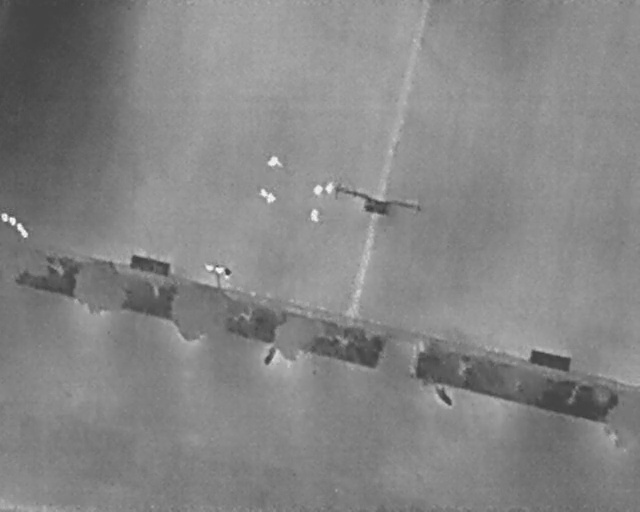Person: (270, 154, 283, 168), (310, 207, 320, 221), (313, 183, 323, 195), (267, 192, 276, 203), (326, 181, 334, 193), (260, 187, 268, 197)
